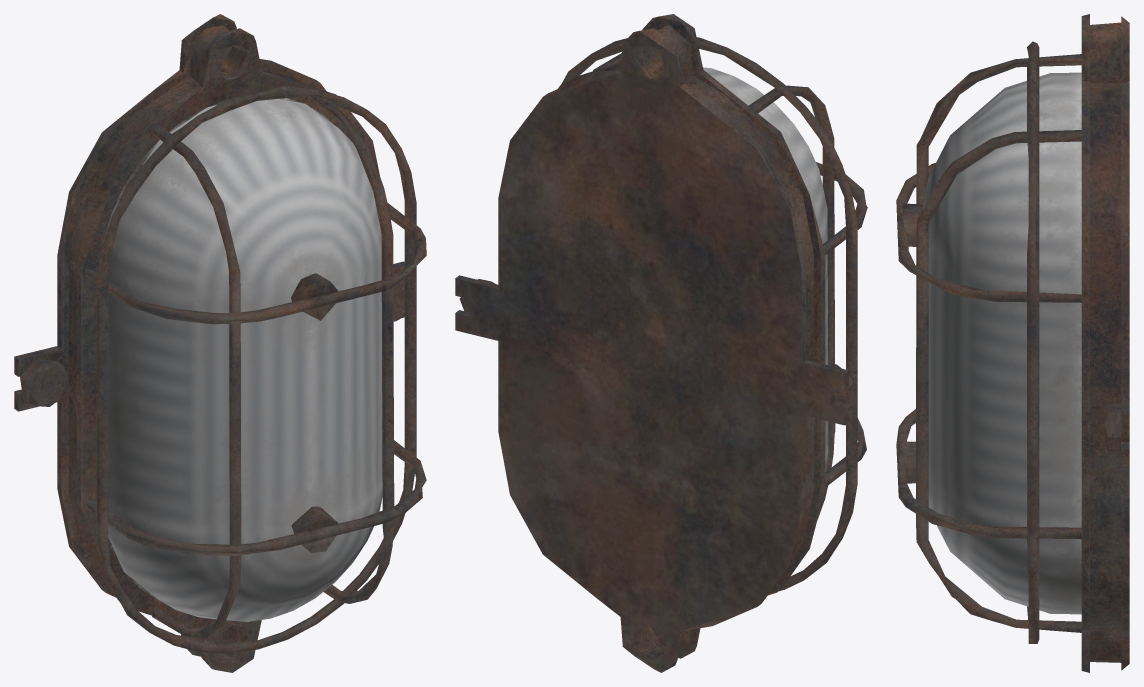
File: industrial_wall_lamp.glb
3 views of the same model, side by side, from view 1: azimuth 30°, elevation 25°; view 2: azimuth 150°, elevation 25°; view 3: azimuth 270°, elevation 25° (orthographic).
Bounding box in the file's own units: 0.2735 × 0.4299 × 0.1393.
Materials: 2 (2 with a texture image).
